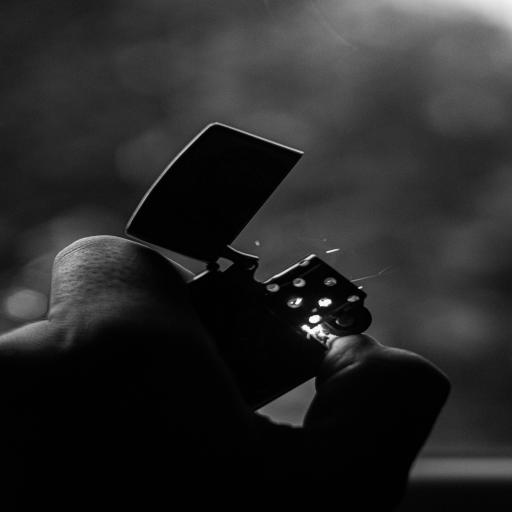lighter: (70, 114, 406, 412)
